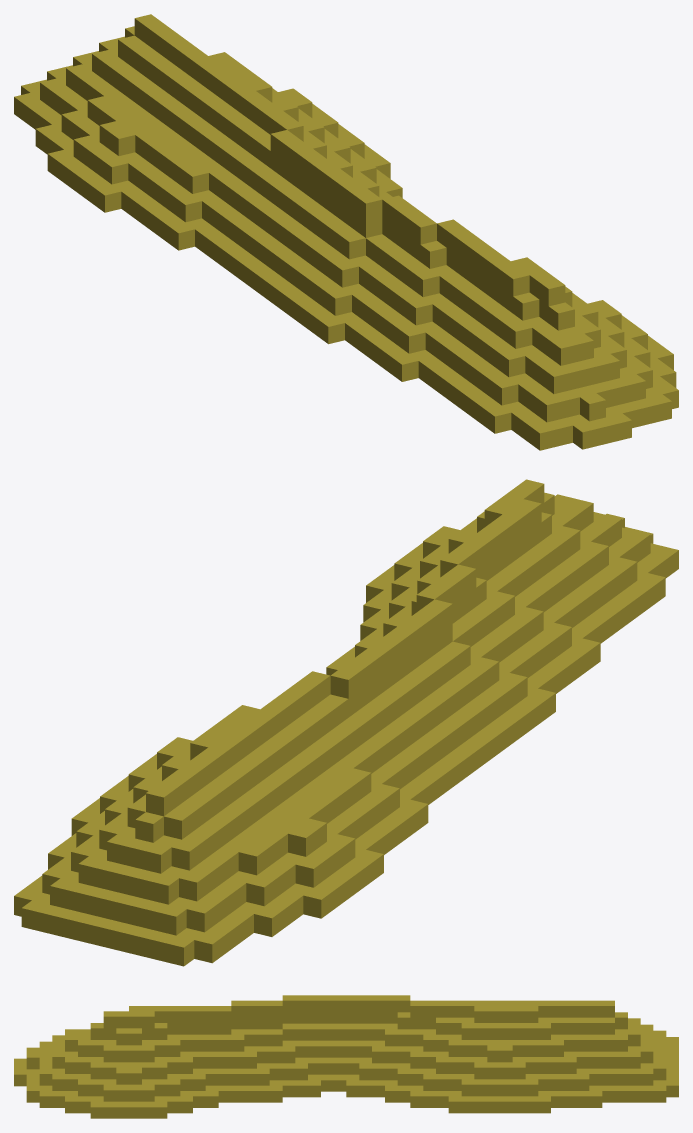
Rendered from dune_2.obj.
3 views of the same model, one above another, from view 1: azimuth 30°, elevation 25°; view 2: azimuth 150°, elevation 25°; view 3: azimuth 270°, elevation 25° (orthographic). The views are drawn at different scales.
Bounding box in the file's own units: 1.6 × 0.6 × 5.2.
1 material, 1 textured.
